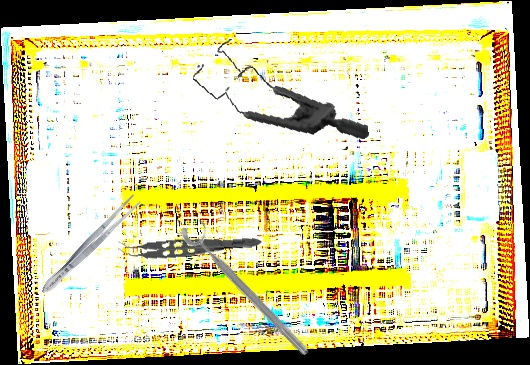Dressing Forceps: (36, 191, 144, 299)
Fixation Ring: (176, 213, 321, 361)
Speculum: (188, 22, 370, 161)
Tissue Forceps: (117, 225, 263, 264)
